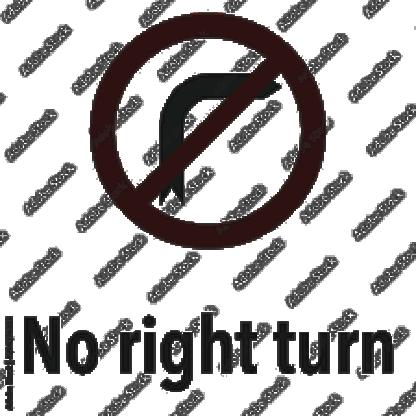No right turn: (82, 9, 328, 252)
